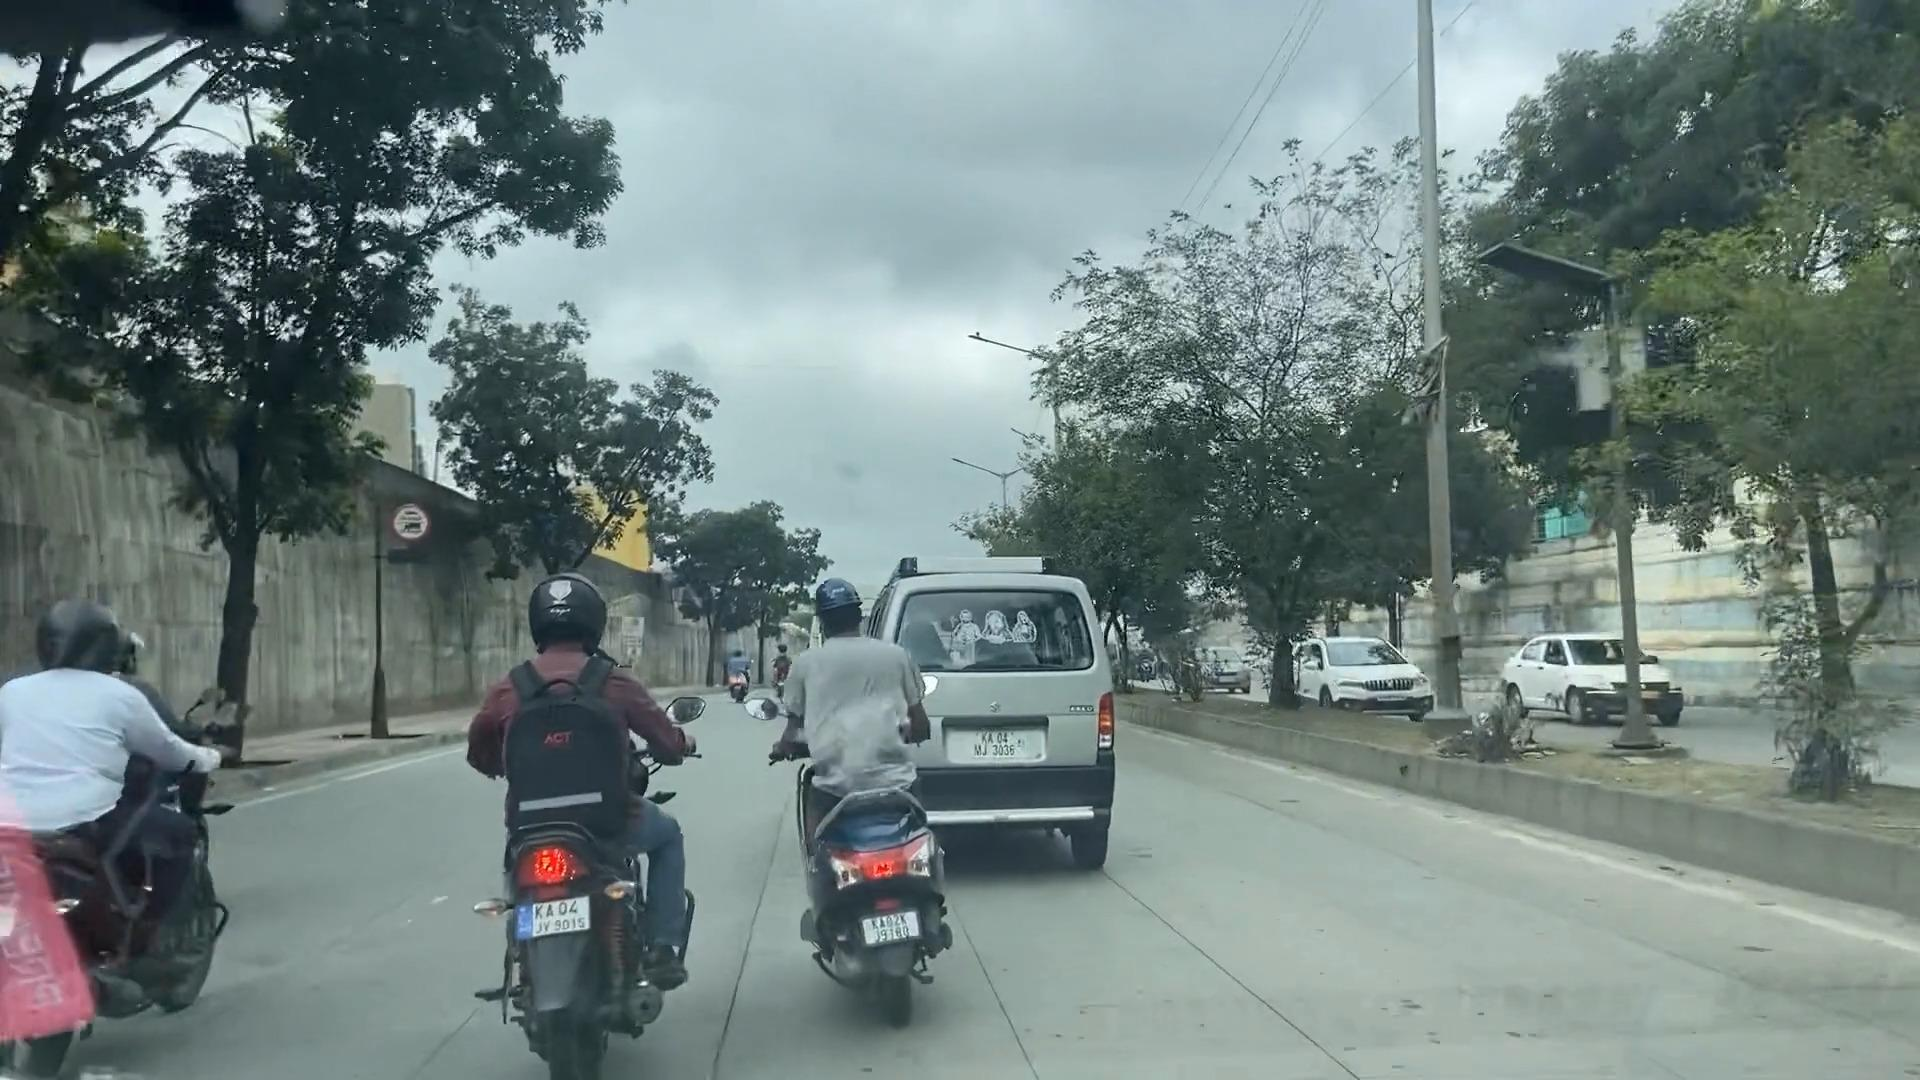LMV: (446, 550, 694, 1076), (742, 568, 984, 1026), (8, 613, 245, 1071), (880, 527, 1127, 897)
